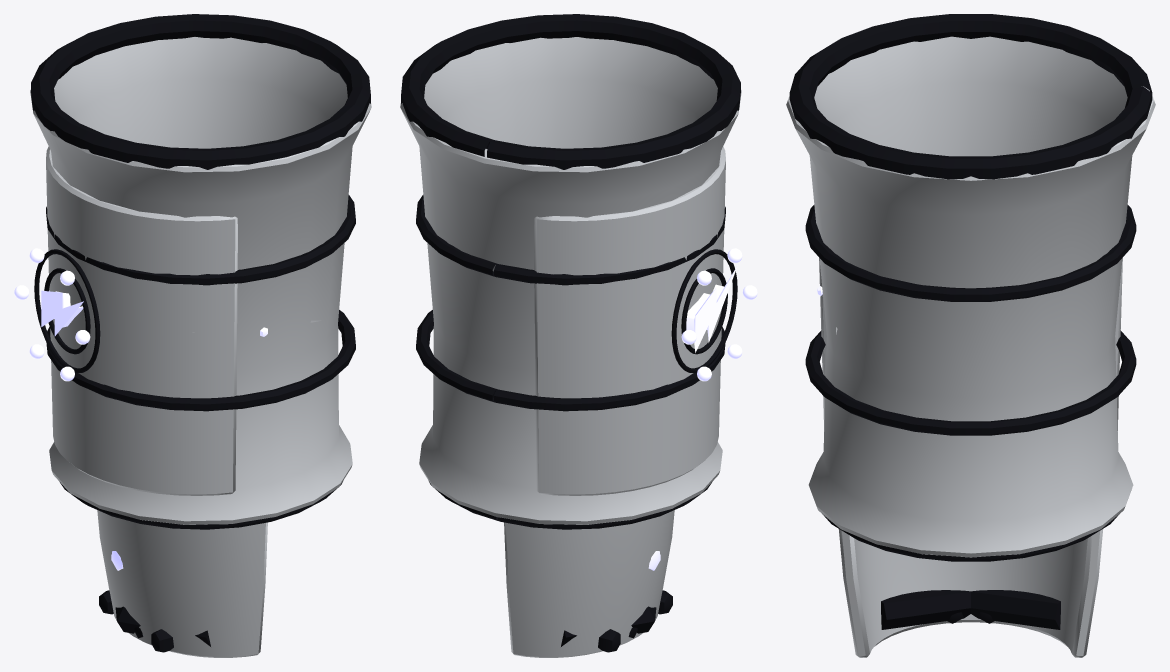
File: esc_oblivion_warden_gloves_R.glb
The picture shows the model from 3 angles, left to right: view 1: azimuth 30°, elevation 25°; view 2: azimuth 150°, elevation 25°; view 3: azimuth 270°, elevation 25°; orthographic projection. The views are drawn at different scales.
Visible parts, largest first — view 1: esc_oblivion_warden_gloves, AT_hand_R; view 2: esc_oblivion_warden_gloves, AT_hand_R; view 3: esc_oblivion_warden_gloves, AT_hand_R.
Part boxes in pixels (x1,y1,x2,y2): esc_oblivion_warden_gloves: [14, 14, 371, 529]; AT_hand_R: [97, 510, 267, 657]; esc_oblivion_warden_gloves: [400, 14, 757, 529]; AT_hand_R: [504, 510, 674, 657]; esc_oblivion_warden_gloves: [786, 14, 1155, 561]; AT_hand_R: [838, 529, 1103, 657].
Size of the model in its own units: 0.202 by 0.3408 by 0.2004.
